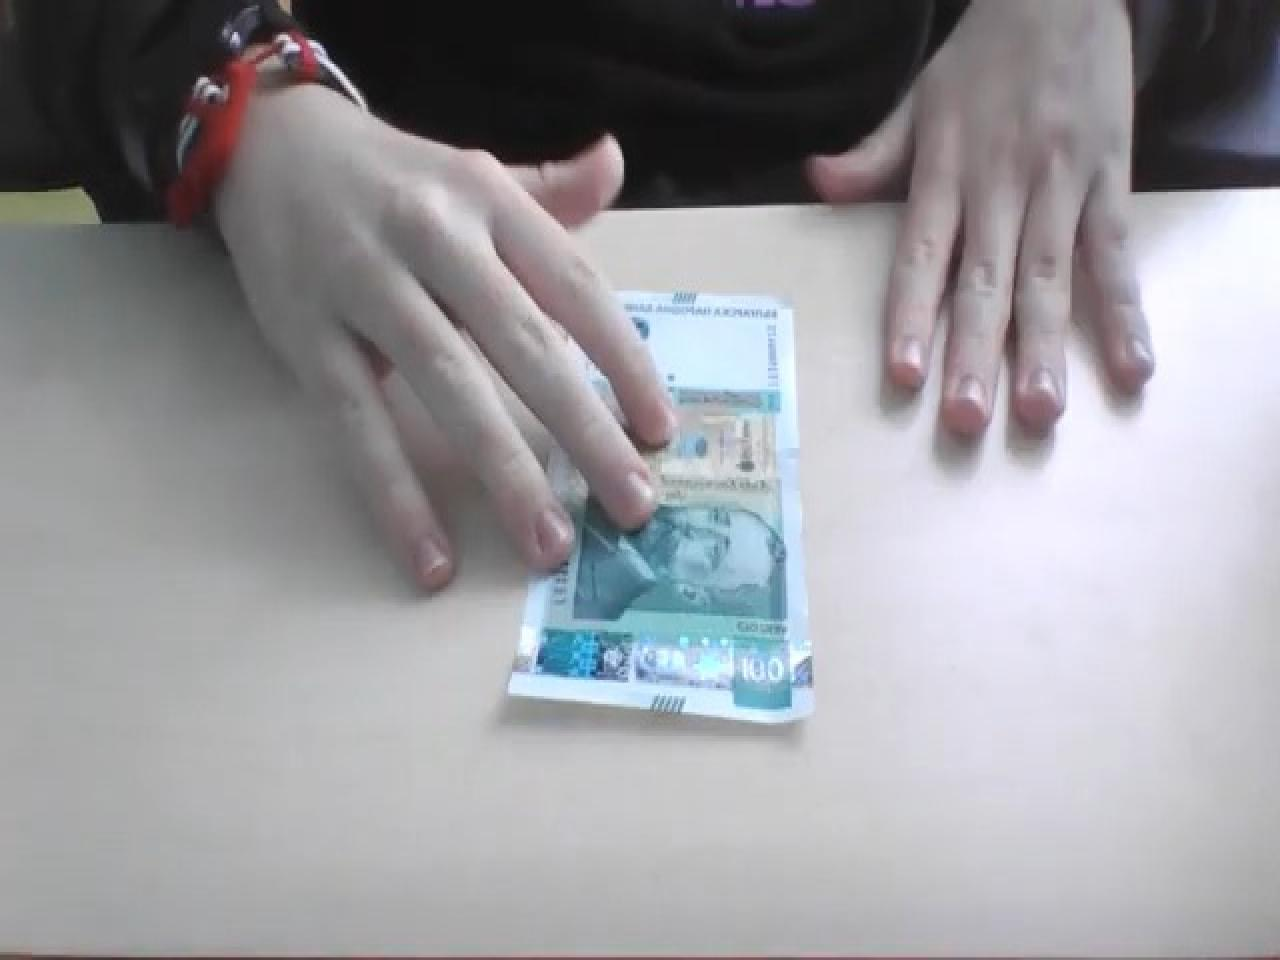100leva: (508, 285, 818, 725)
